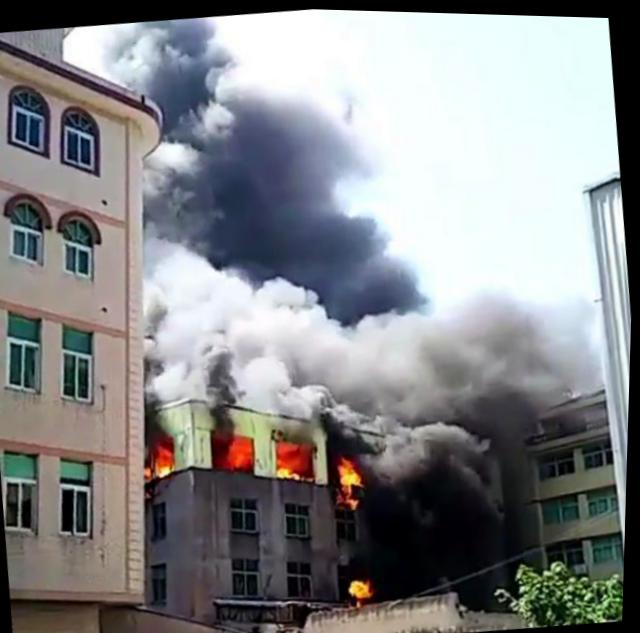fire: (279, 435, 322, 479), (232, 432, 262, 469), (338, 451, 368, 484), (156, 437, 182, 474), (350, 573, 380, 596)
